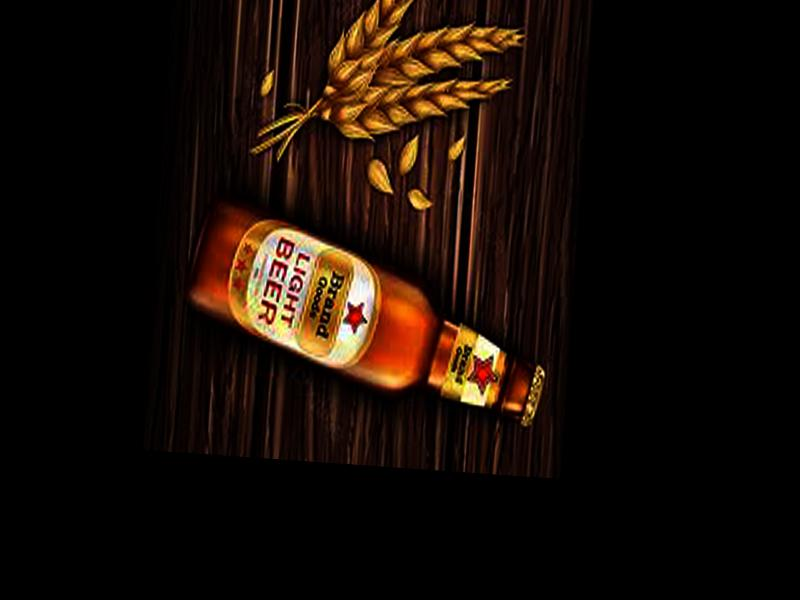Beer: (179, 194, 557, 430)
